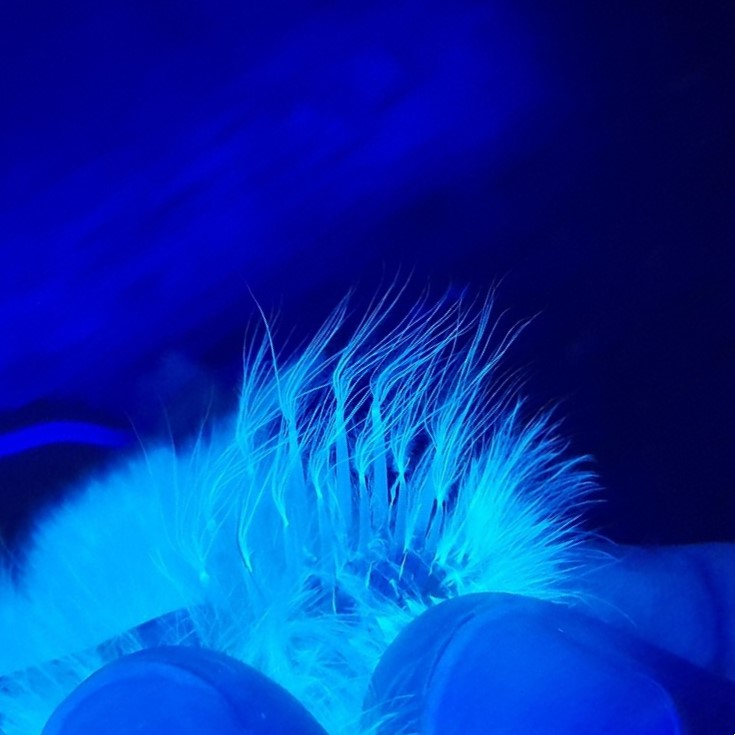female: (186, 381, 502, 647)
